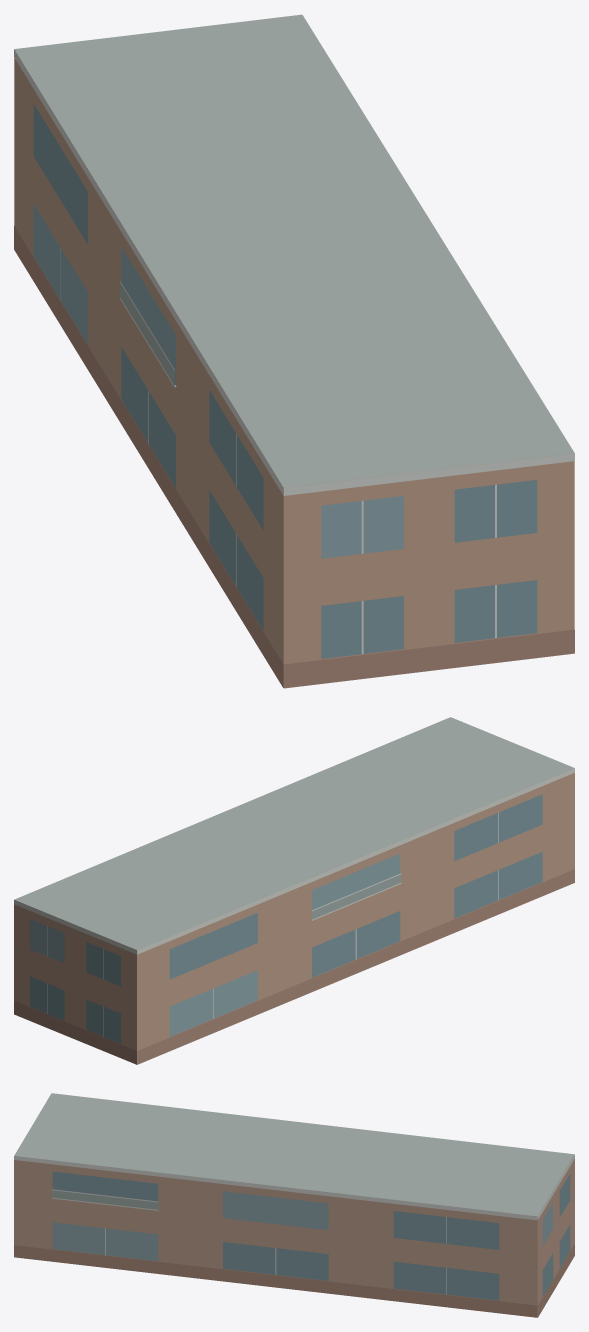
Rendered from survey-upis-32708871.glb.
3 views of the same model, one above another, from view 1: azimuth 30°, elevation 25°; view 2: azimuth 150°, elevation 25°; view 3: azimuth 270°, elevation 25° (orthographic). The views are drawn at different scales.
Parts seen in each view (by area): view 1: survey-upis-32708871.tmp; view 2: survey-upis-32708871.tmp; view 3: survey-upis-32708871.tmp.
Boxes of the visible parts, left/top/right/bottom form: survey-upis-32708871.tmp: left=14, top=14, right=574, bottom=688; survey-upis-32708871.tmp: left=14, top=717, right=574, bottom=1064; survey-upis-32708871.tmp: left=14, top=1093, right=574, bottom=1317.
Size of the model in its own units: 15.91 by 6.1 by 30.58.
